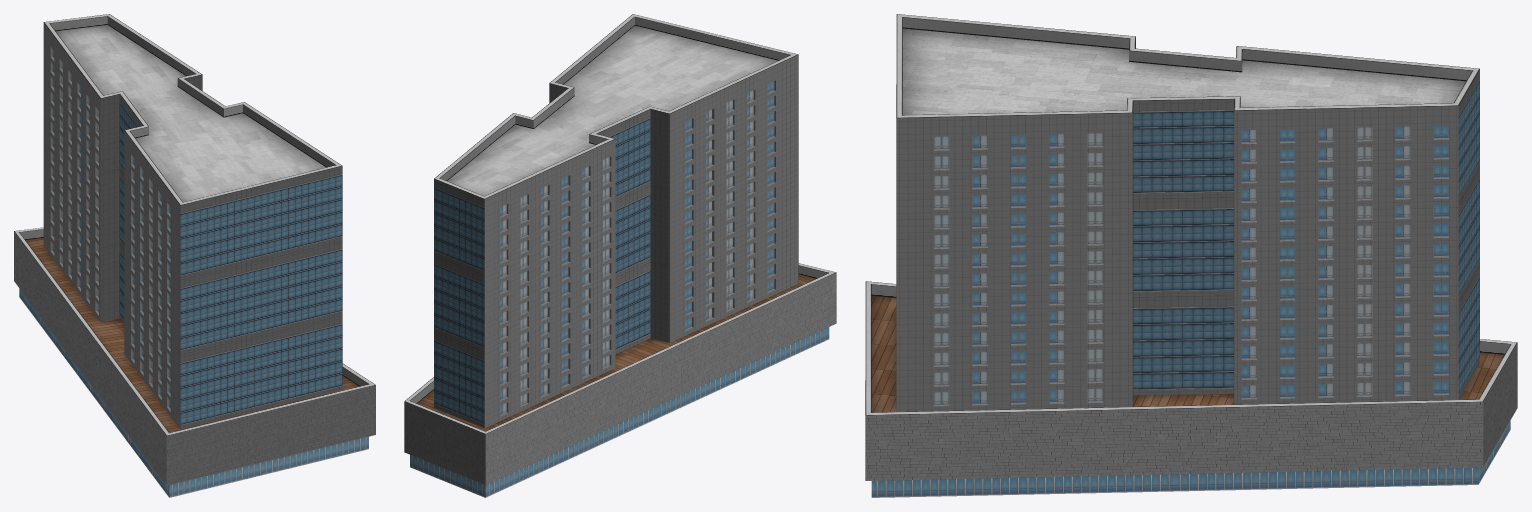
3 views of the same model, side by side, from view 1: azimuth 30°, elevation 25°; view 2: azimuth 150°, elevation 25°; view 3: azimuth 270°, elevation 25° (orthographic). The views are drawn at different scales.
Visible parts, largest first — view 1: MainBuilding; view 2: MainBuilding; view 3: MainBuilding.
Boxes of the visible parts, x1,y1,x2,y2 form: MainBuilding: [14, 14, 375, 497]; MainBuilding: [404, 14, 836, 497]; MainBuilding: [865, 14, 1517, 497].
Bounding box in the file's own units: 0.5123 × 0.6572 × 1.05.
1 material, 1 textured.
